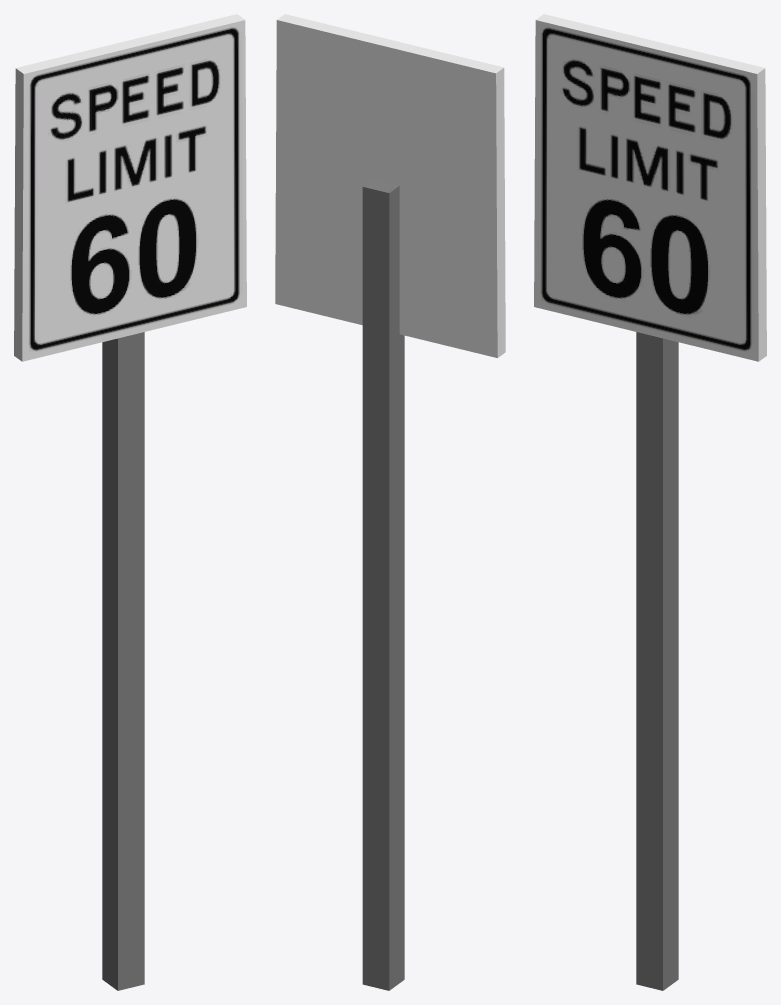
File: prop_speedsign3.fbx
3 views of the same model, side by side, from view 1: azimuth 30°, elevation 25°; view 2: azimuth 150°, elevation 25°; view 3: azimuth 330°, elevation 25° (orthographic).
Parts seen in each view (by area): view 1: prop_speedsign3; view 2: prop_speedsign3; view 3: prop_speedsign3.
Part boxes in pixels (x1,y1,x2,y2): prop_speedsign3: [14, 14, 246, 990]; prop_speedsign3: [275, 14, 505, 990]; prop_speedsign3: [534, 14, 766, 990].
Bounding box in the file's own units: 10.32 × 41.38 × 1.5.
